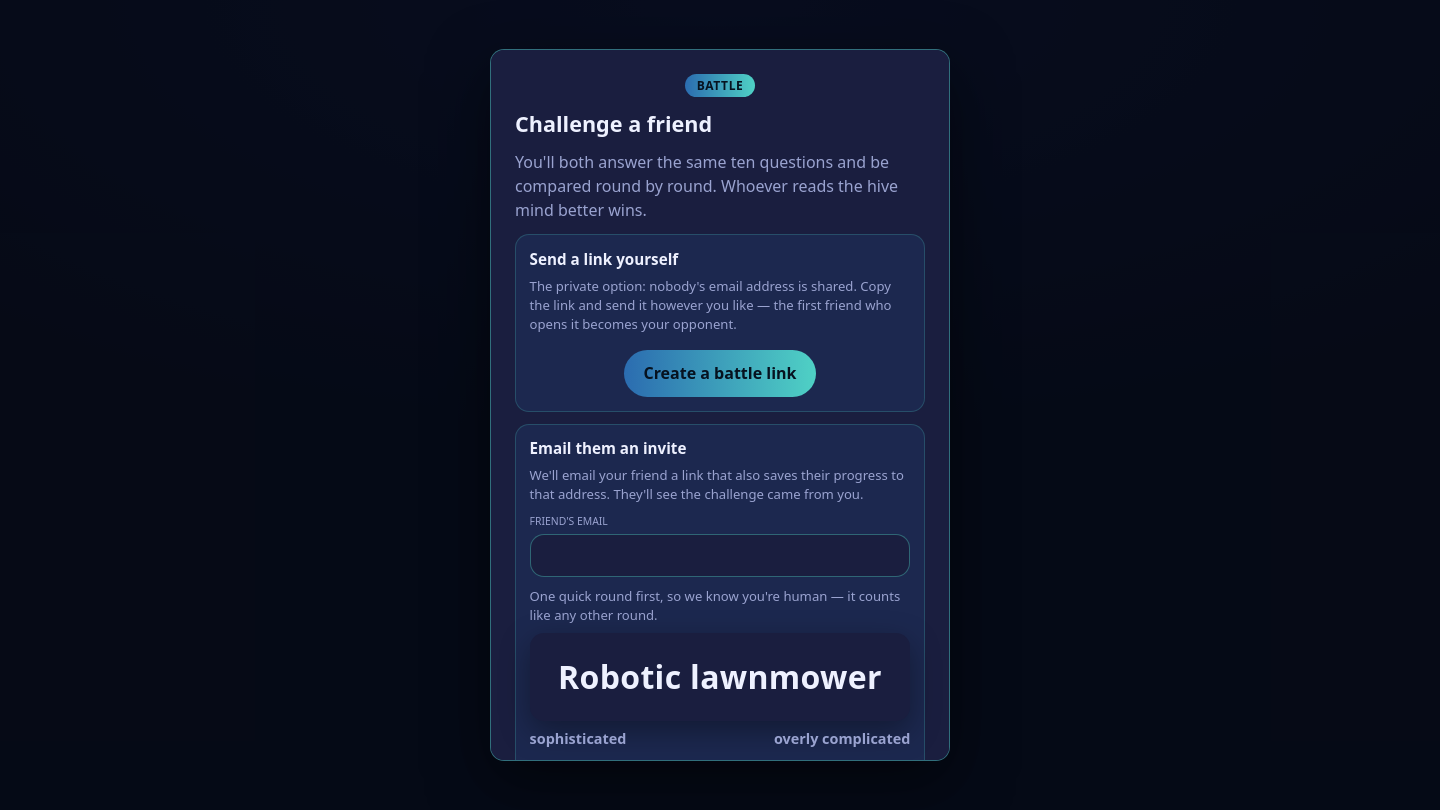
Scenario: PvpInviteModal › surfaces a rejected invite and deals a fresh check to retry with
Expected: the heading "Robotic lawnmower" is shown, [555,655,885,698]
Type "friend@example.com" into the field labelled "Friend's email".
click(720, 555); type("friend@example.com")  # box [530,534,910,577]
(page scrolled)
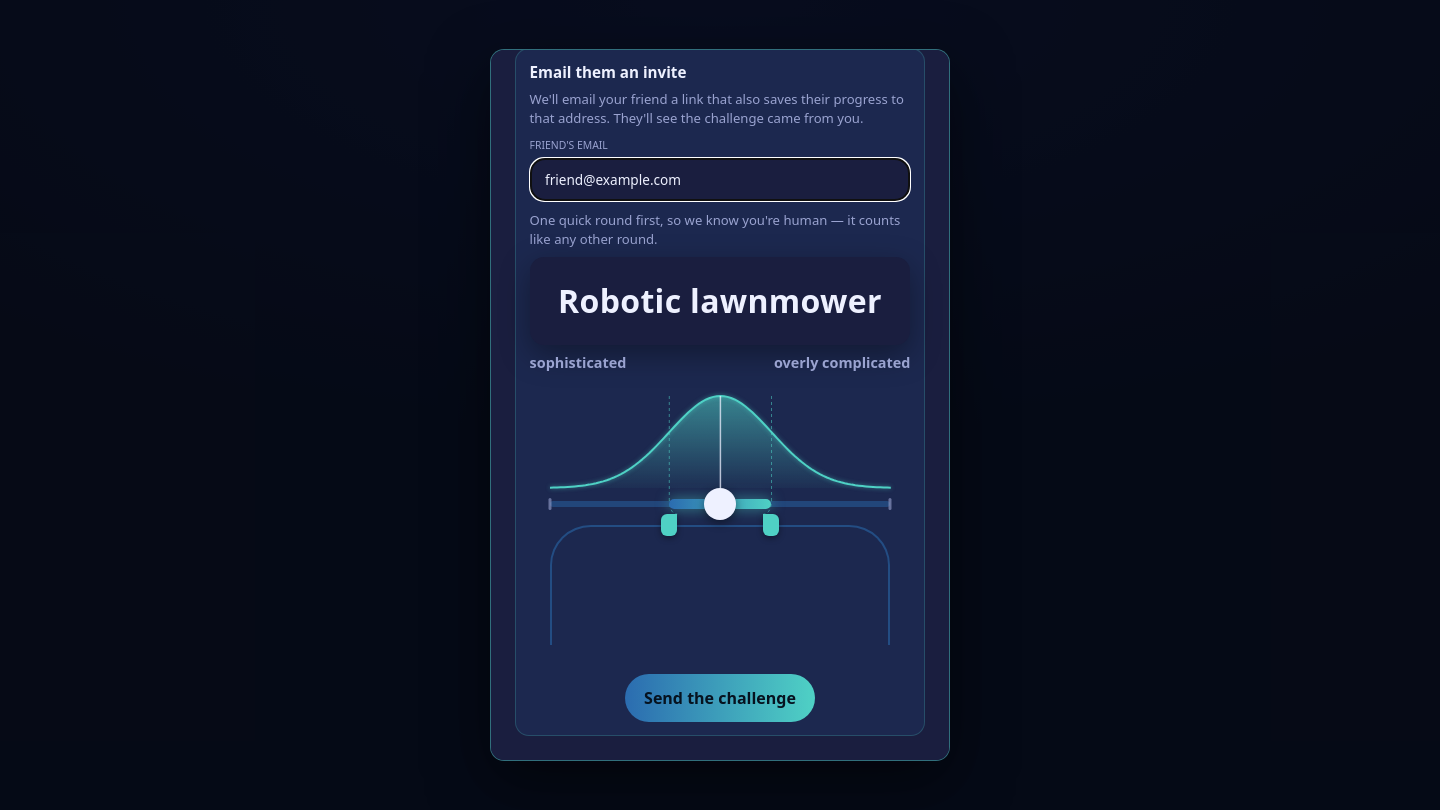
Click the button "Send the challenge".
click(720, 698)  # box [625,674,815,722]
(page scrolled)
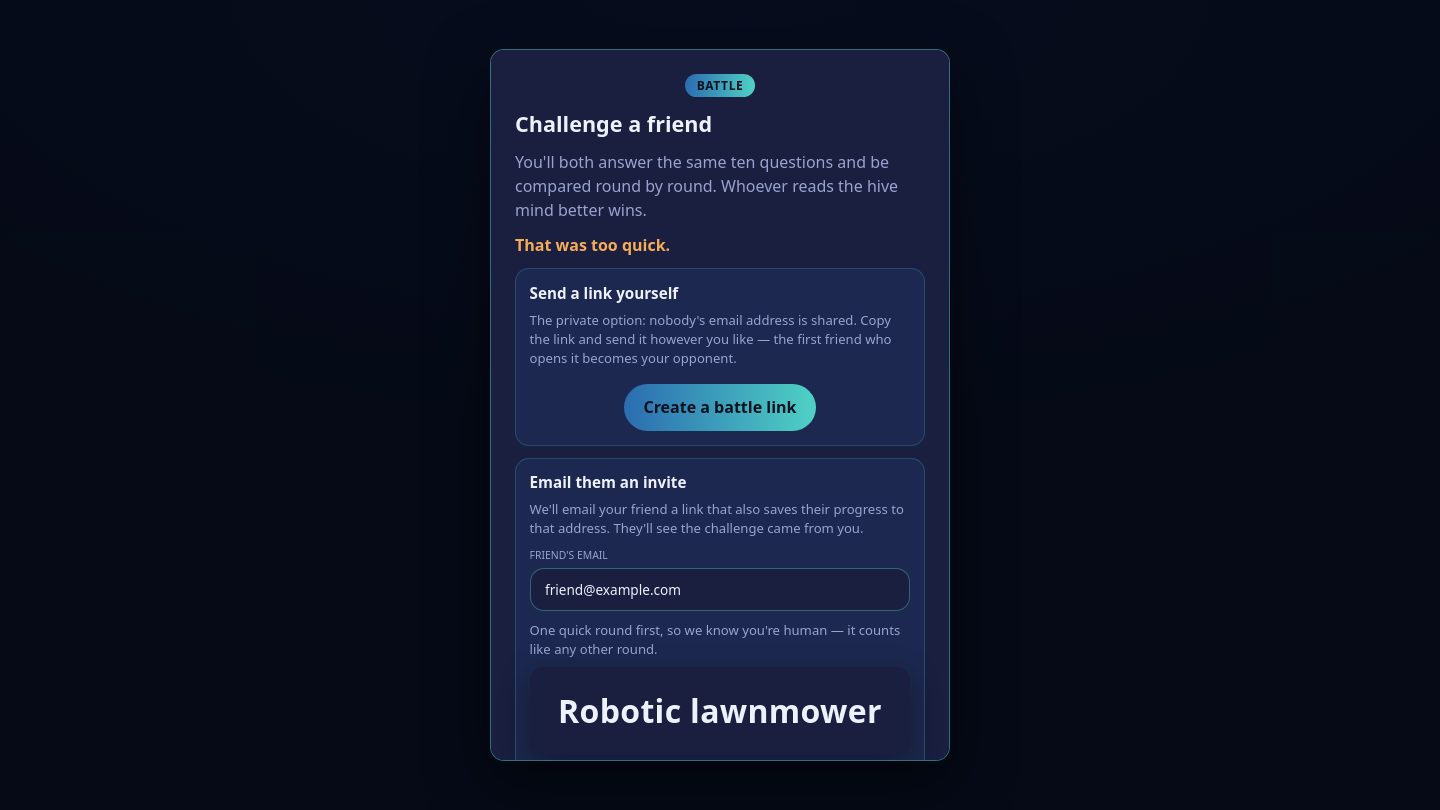
Result: the message shows "too quick" at [515,234,670,256]
